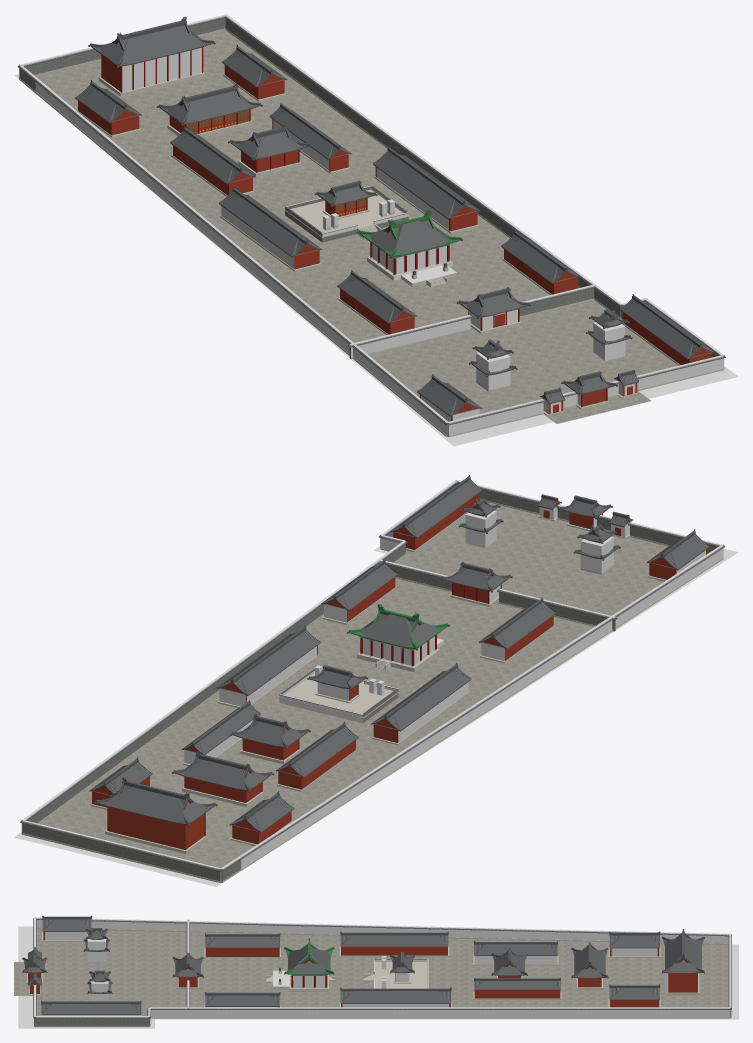
Rendered from fayuansi.glb.
The picture shows the model from 3 angles, top to bottom: view 1: azimuth 30°, elevation 25°; view 2: azimuth 150°, elevation 25°; view 3: azimuth 270°, elevation 25°; orthographic projection. The views are drawn at different scales.
Parts seen in each view (by area): view 1: Massing, Temple, COL_h8, FOOTPRINT_south, COL_b30, COL_h9, COL_h6, COL_h0, COL_h3, COL_b9, COL_b15, COL_b10 (+2 smaller); view 2: Massing, Temple, COL_h8, FOOTPRINT_north, COL_h6, COL_b36, COL_b15, COL_b9, COL_b10, COL_b35; view 3: Massing, Temple, COL_h6, COL_h8, FOOTPRINT_north, FOOTPRINT_south, COL_b37, COL_b36, COL_b39, COL_b9, COL_b31, COL_b15 (+4 smaller).
Part boxes in pixels (<box>): Massing: <box>25,18,717,436</box>; Temple: <box>17,14,725,437</box>; COL_h8: <box>19,65,447,434</box>; FOOTPRINT_south: <box>371,318,738,446</box>; COL_b30: <box>122,47,201,91</box>; COL_h9: <box>349,315,470,357</box>; COL_h6: <box>225,15,622,304</box>; COL_h0: <box>447,399,543,435</box>; COL_h3: <box>636,355,723,389</box>; COL_b9: <box>476,352,510,390</box>; COL_b15: <box>372,243,446,273</box>; COL_b10: <box>593,322,625,360</box>; Massing: <box>22,483,709,881</box>; Temple: <box>20,475,725,882</box>; COL_h8: <box>221,545,723,869</box>; FOOTPRINT_north: <box>14,615,638,886</box>; COL_h6: <box>21,541,405,833</box>; COL_b36: <box>219,646,316,706</box>; COL_b15: <box>362,636,434,665</box>; COL_b9: <box>580,537,613,573</box>; COL_b10: <box>465,510,496,547</box>; COL_b35: <box>398,682,468,742</box>; Massing: <box>14,919,728,1015</box>; Temple: <box>22,915,731,1027</box>; COL_h6: <box>149,1007,730,1017</box>; COL_h8: <box>35,917,729,943</box>; FOOTPRINT_north: <box>155,944,738,1019</box>; FOOTPRINT_south: <box>18,926,154,1028</box>; COL_b37: <box>474,956,557,964</box>; COL_b36: <box>342,1004,448,1007</box>; COL_b39: <box>611,948,657,956</box>; COL_b9: <box>87,934,105,962</box>; COL_b31: <box>45,932,87,940</box>; COL_b15: <box>293,976,325,987</box>.
Bounding box in the file's own units: 84.2 × 15.13 × 252.
Materials: 11 (5 with a texture image).
